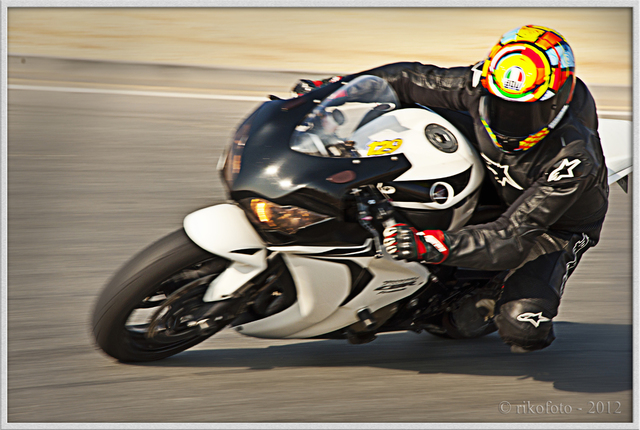helmet: (479, 34, 578, 141)
